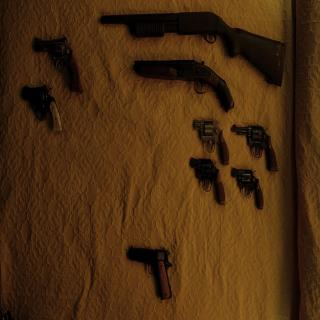gun: (98, 7, 284, 85), (132, 54, 235, 113), (33, 31, 83, 94), (126, 244, 172, 300), (232, 120, 278, 172), (22, 79, 64, 132), (192, 114, 230, 166), (190, 153, 226, 205), (231, 164, 264, 208)
